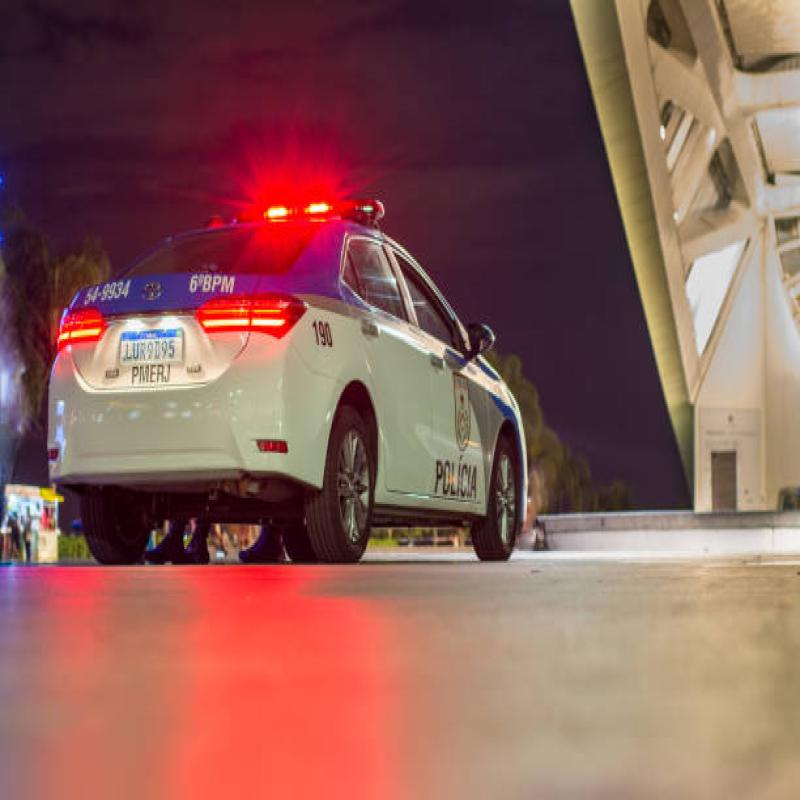AmbulanceSiren: (212, 189, 414, 240)
